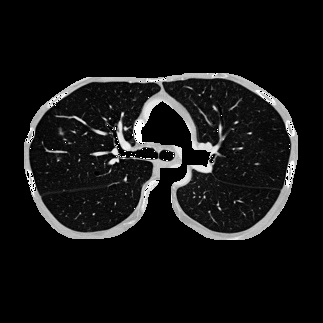PN: (58, 130, 62, 134)
